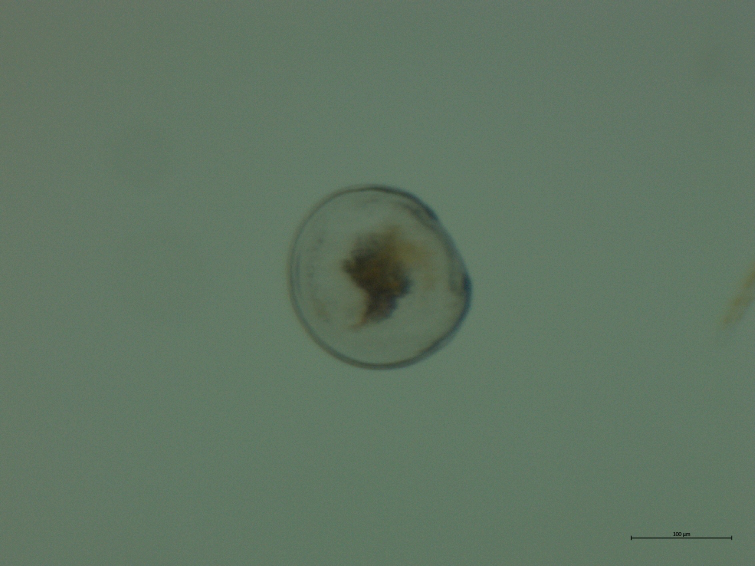oyster: (276, 175, 481, 380)
